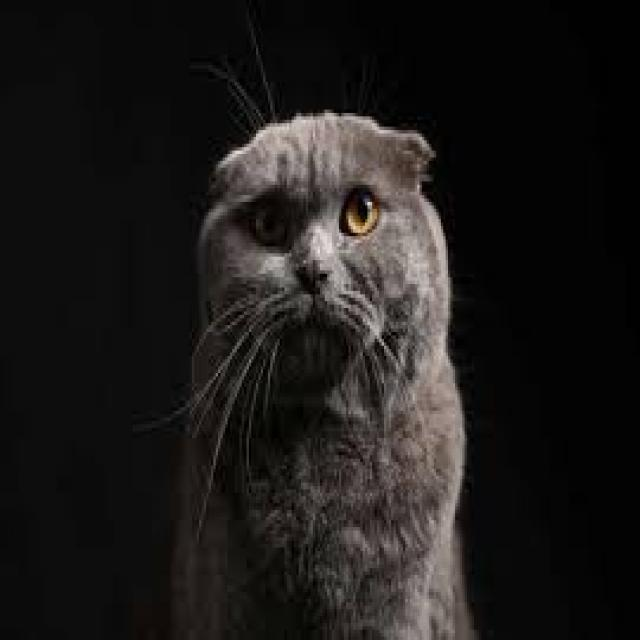Cat: (151, 103, 478, 640)
